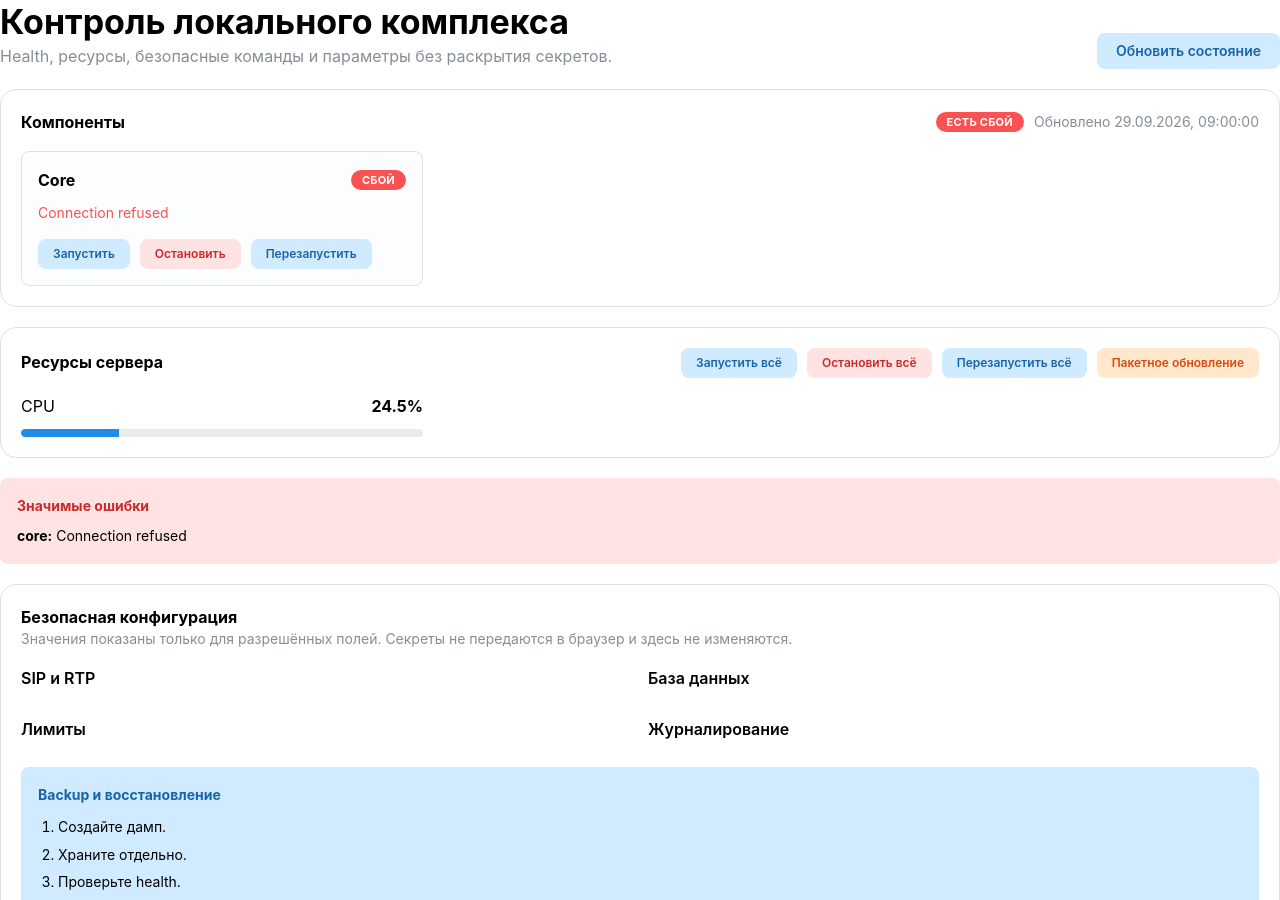
admin system panel › shows a health failure and replaces it after a manual refresh
The width and height of the screenshot is (1280, 900).
expect the text "Connection refused" is shown: met, box 38,204 -> 169,221
expect the text "Есть сбой" is shown: met, box 946,113 -> 1013,131
Click the button "Обновить состояние" at (1188, 51), box 1097,33 -> 1279,69
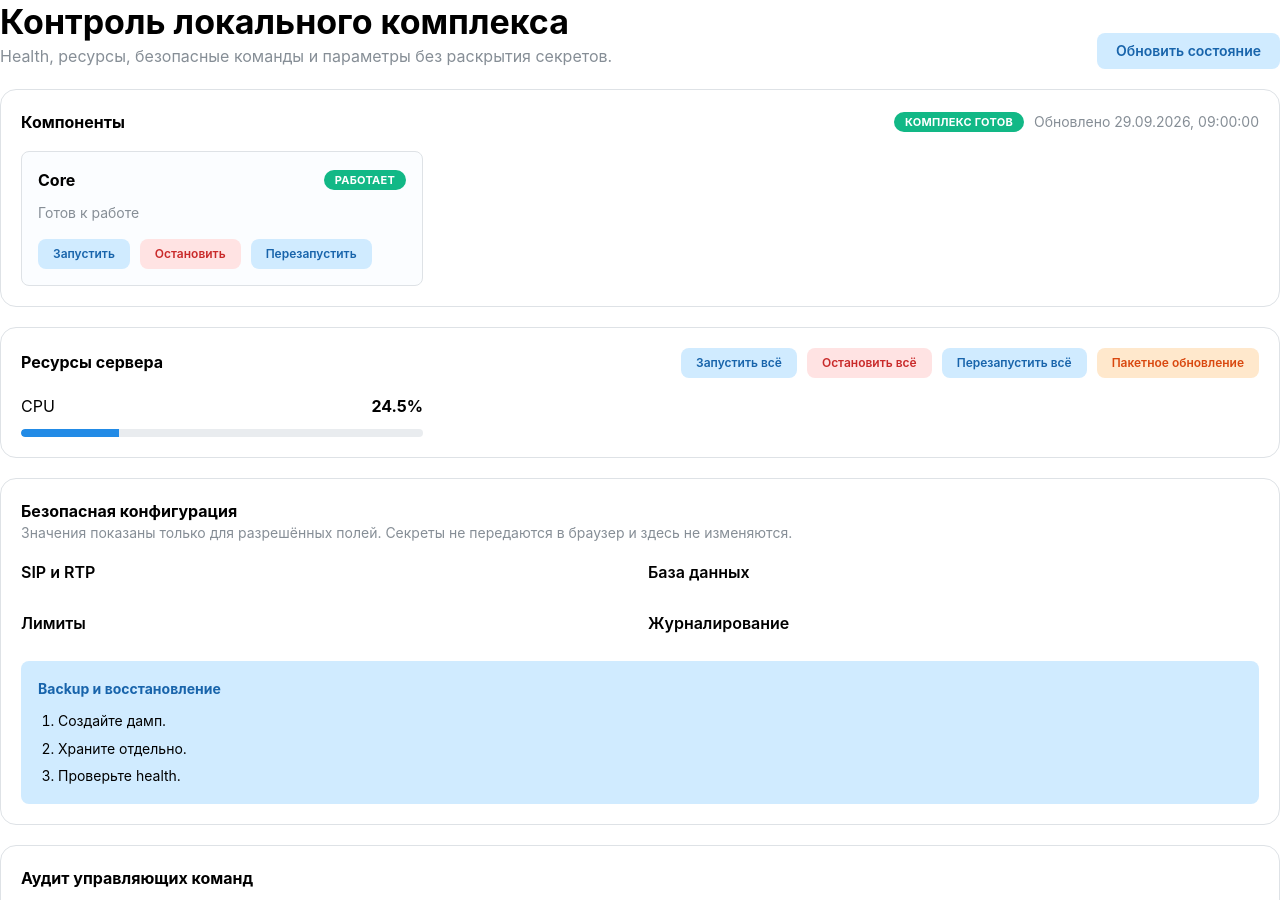
expect the text "Комплекс готов" is shown: met, box 905,113 -> 1013,131
expect the text "Connection refused" is gone: met
